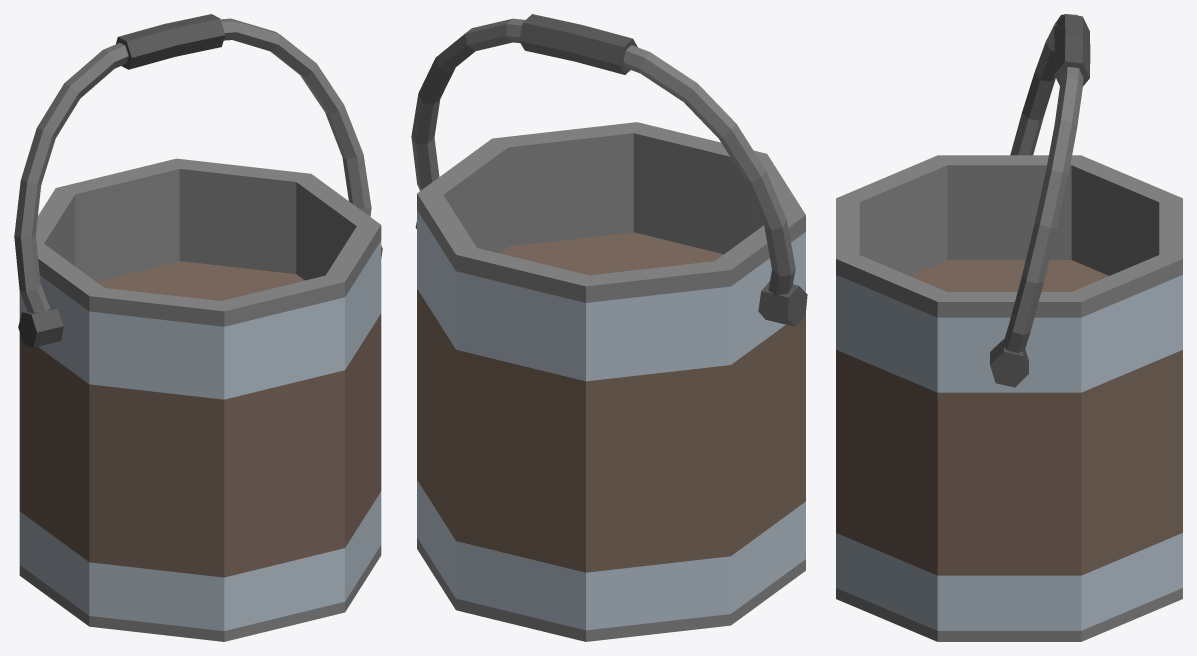
The model's file is SM_Props_Dye_02.glb.
The picture shows the model from 3 angles, left to right: view 1: azimuth 30°, elevation 25°; view 2: azimuth 150°, elevation 25°; view 3: azimuth 270°, elevation 25°; orthographic projection. The views are drawn at different scales.
Visible parts, largest first — view 1: SM_Props_Dye_02; view 2: SM_Props_Dye_02; view 3: SM_Props_Dye_02.
Boxes of the visible parts, <box> form: SM_Props_Dye_02: <box>14,14,382,641</box>; SM_Props_Dye_02: <box>411,14,807,641</box>; SM_Props_Dye_02: <box>836,14,1182,641</box>.
Bounding box in the file's own units: 0.2662 × 0.3781 × 0.2233.
Materials: 1 (1 with a texture image).
